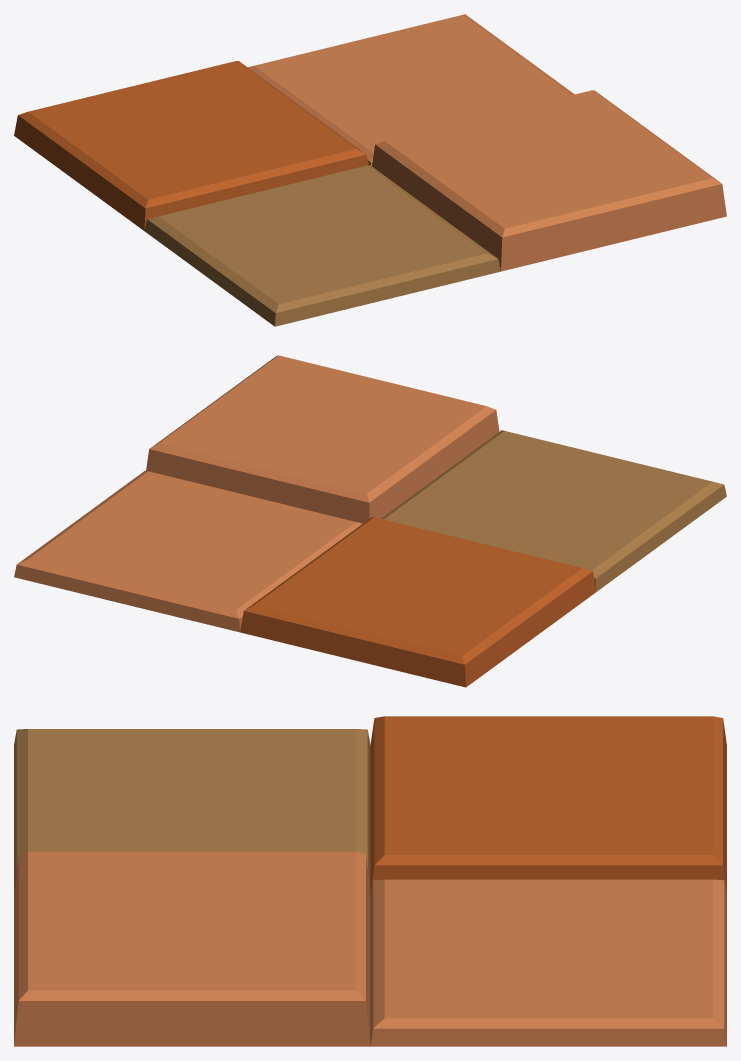
File: Floor Mini 2x2.fbx
The picture shows the model from 3 angles, top to bottom: view 1: azimuth 30°, elevation 25°; view 2: azimuth 150°, elevation 25°; view 3: azimuth 270°, elevation 25°; orthographic projection. The views are drawn at different scales.
Visible parts, largest first — view 1: Floor Asset Mini 2x2; view 2: Floor Asset Mini 2x2; view 3: Floor Asset Mini 2x2.
Part boxes in pixels (left/top/right/bottom): Floor Asset Mini 2x2: left=14, top=14, right=726, bottom=326; Floor Asset Mini 2x2: left=14, top=355, right=726, bottom=687; Floor Asset Mini 2x2: left=14, top=716, right=726, bottom=1046.
Bounding box in the file's own units: 167 × 12.97 × 167.
